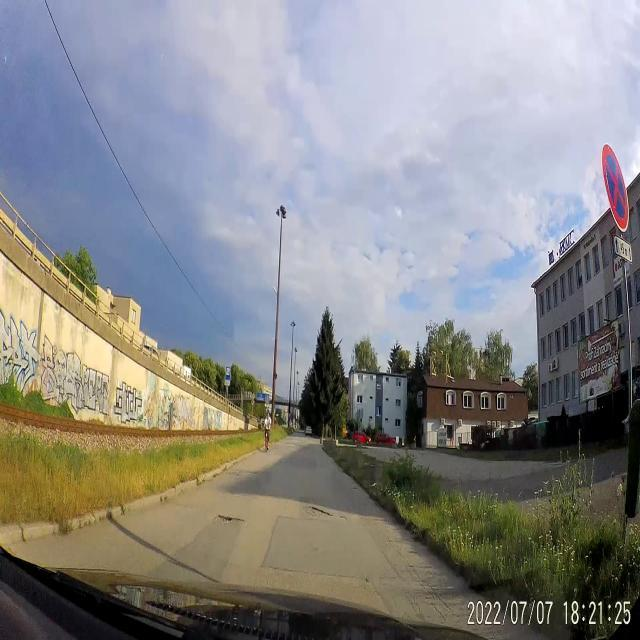Pothole: (302, 503, 334, 521), (211, 512, 246, 526), (340, 512, 350, 524), (407, 548, 419, 558), (364, 576, 371, 584), (352, 485, 358, 490)
